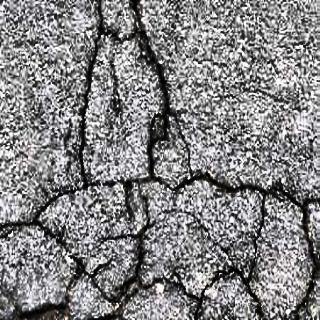alligator-crack: (31, 28, 320, 316), (39, 188, 178, 298), (76, 34, 170, 192), (213, 176, 312, 310)
